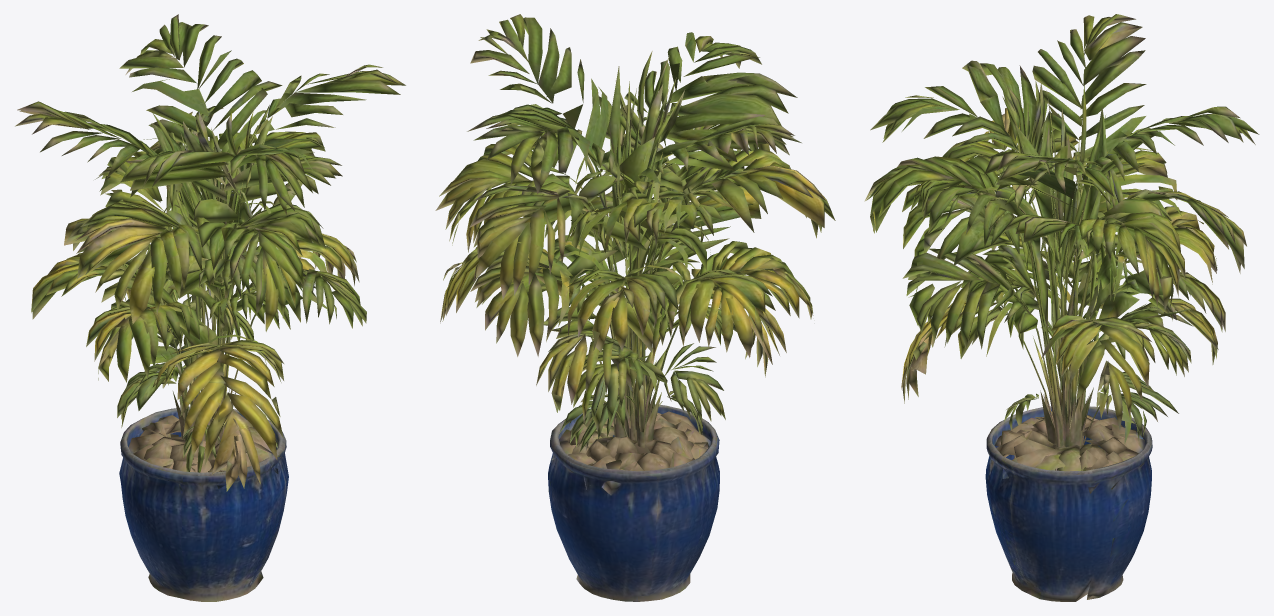
The model's file is skyways-d-gd-palm.glb.
3 renders of one model, left to right at view 1: azimuth 30°, elevation 25°; view 2: azimuth 150°, elevation 25°; view 3: azimuth 270°, elevation 25°, orthographic. The views are drawn at different scales.
Parts seen in each view (by area): view 1: skyways-d-gd-palm; view 2: skyways-d-gd-palm; view 3: skyways-d-gd-palm.
Part boxes in pixels (box(x1,y1,x2,y2)): skyways-d-gd-palm: box(15, 14, 405, 601); skyways-d-gd-palm: box(435, 14, 835, 601); skyways-d-gd-palm: box(864, 14, 1259, 601).
Bounding box in the file's own units: 1.57 × 2.2 × 1.59.
1 material, 1 textured.
